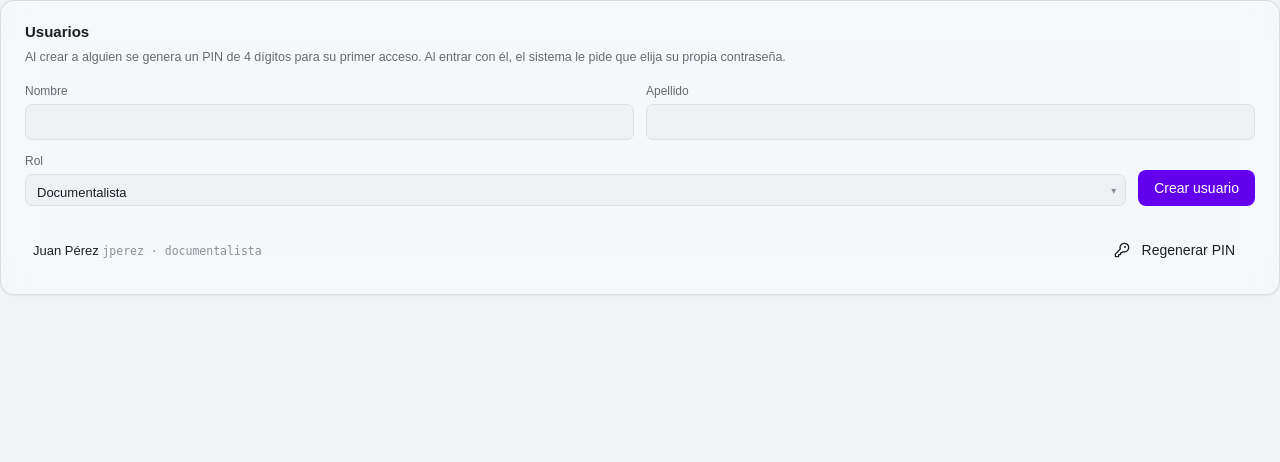
it: UsersCard › regenera el PIN de alguien que quedó afuera
Expected: the text "Juan Pérez" is shown, 33,242 -> 99,258
Click the button "Regenerar PIN" at (1174, 250), box 1102,232 -> 1247,268
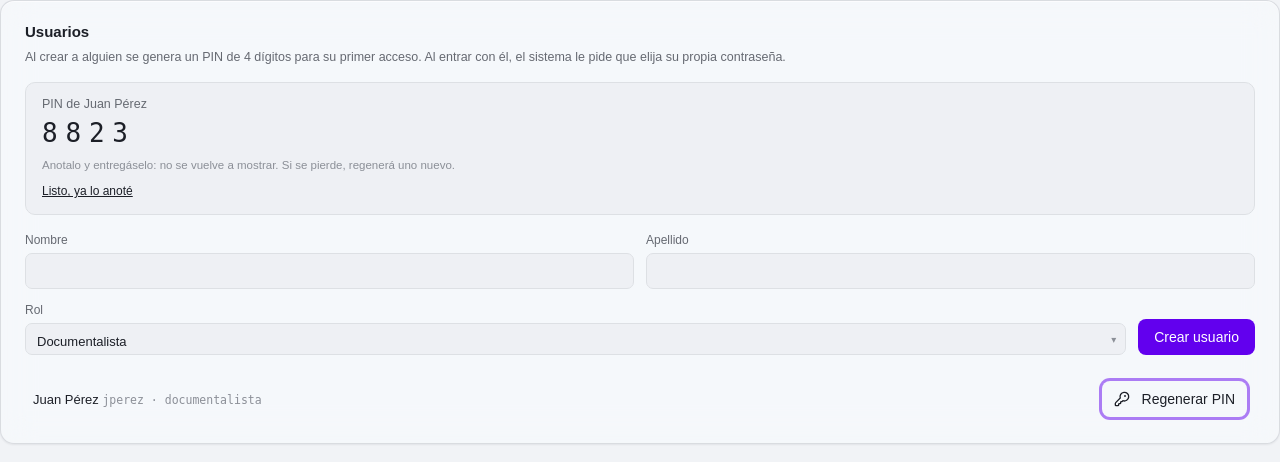
Now the text "8823" is shown, box 42,118 -> 136,148
